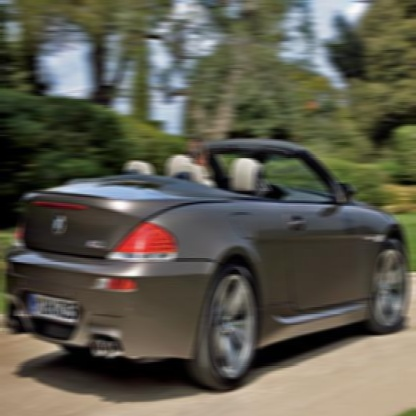Vehicle: (4, 138, 409, 394)
